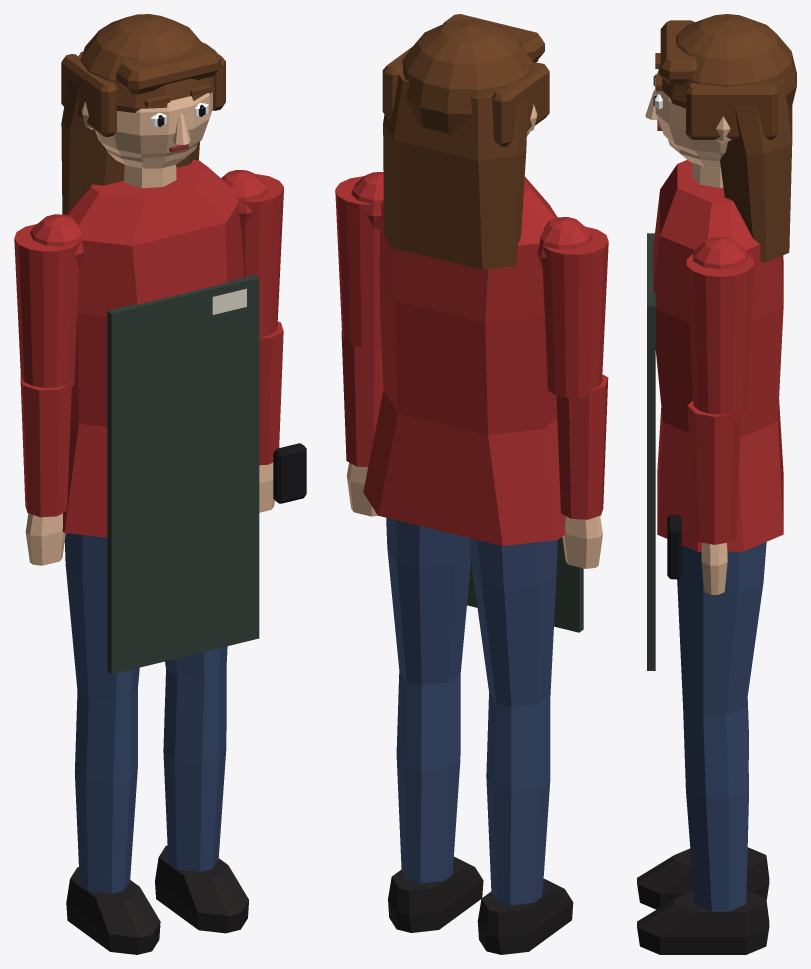
The model's file is cashier.obj.
3 renders of one model, left to right at view 1: azimuth 30°, elevation 25°; view 2: azimuth 150°, elevation 25°; view 3: azimuth 270°, elevation 25°, orthographic.
Visible parts, largest first — view 1: cashier; view 2: cashier; view 3: cashier.
Boxes of the visible parts, x1,y1,x2,y2 form: cashier: [14, 14, 306, 954]; cashier: [335, 14, 608, 954]; cashier: [637, 14, 796, 954].
Size of the model in its own units: 0.535 by 1.73 by 0.2781.
